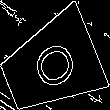O_SW: (23, 35, 79, 96)
